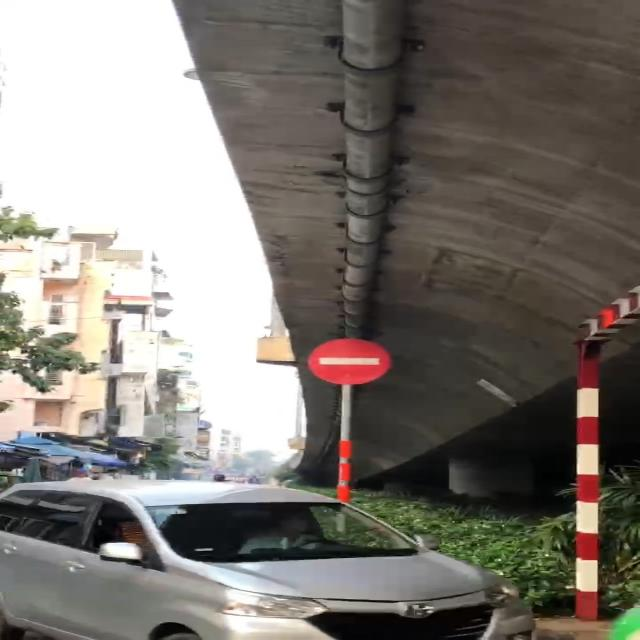Bien bao cam di nguoc chieu: (305, 335, 394, 391)
